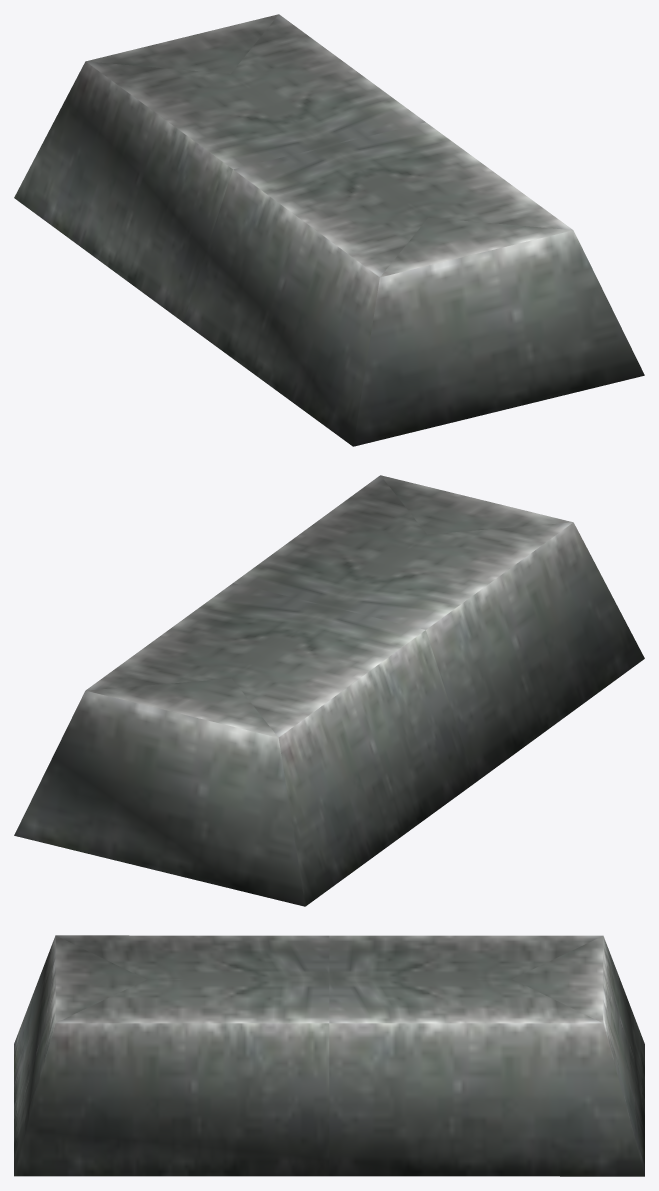
Rendered from SYN_IRON_BAR.glb.
3 views of the same model, one above another, from view 1: azimuth 30°, elevation 25°; view 2: azimuth 150°, elevation 25°; view 3: azimuth 270°, elevation 25° (orthographic). The views are drawn at different scales.
Parts seen in each view (by area): view 1: Mesh; view 2: Mesh; view 3: Mesh.
Boxes of the visible parts, x1,y1,x2,y2 form: Mesh: [14, 14, 644, 446]; Mesh: [14, 475, 644, 906]; Mesh: [14, 935, 644, 1176].
Bounding box in the file's own units: 0.1875 × 0.0864 × 0.3774.
1 material, 1 textured.
